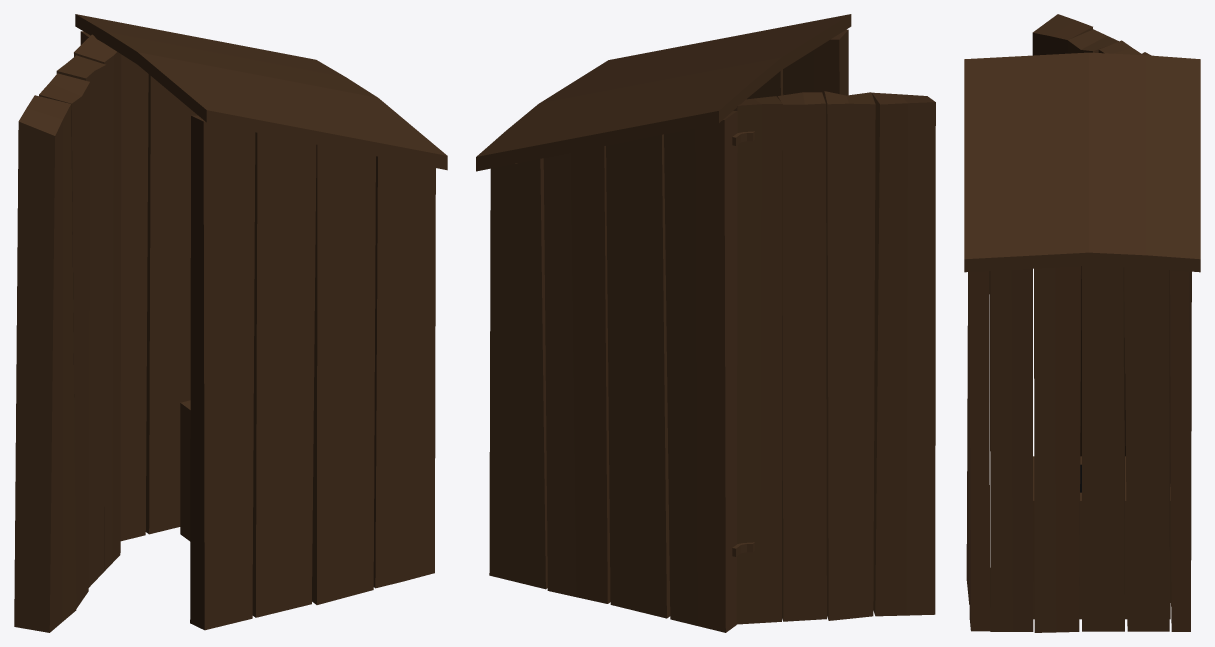
The model's file is Model_Sracz2.fbx.
The picture shows the model from 3 angles, left to right: view 1: azimuth 30°, elevation 25°; view 2: azimuth 150°, elevation 25°; view 3: azimuth 270°, elevation 25°; orthographic projection. The views are drawn at different scales.
Parts seen in each view (by area): view 1: Mesh_Sracz2; view 2: Mesh_Sracz2; view 3: Mesh_Sracz2.
Boxes of the visible parts, x1=… form: Mesh_Sracz2: x1=14, y1=14, x2=447, y2=632; Mesh_Sracz2: x1=476, y1=14, x2=935, y2=632; Mesh_Sracz2: x1=964, y1=14, x2=1200, y2=632.
Size of the model in its own units: 83.16 by 188 by 139.
